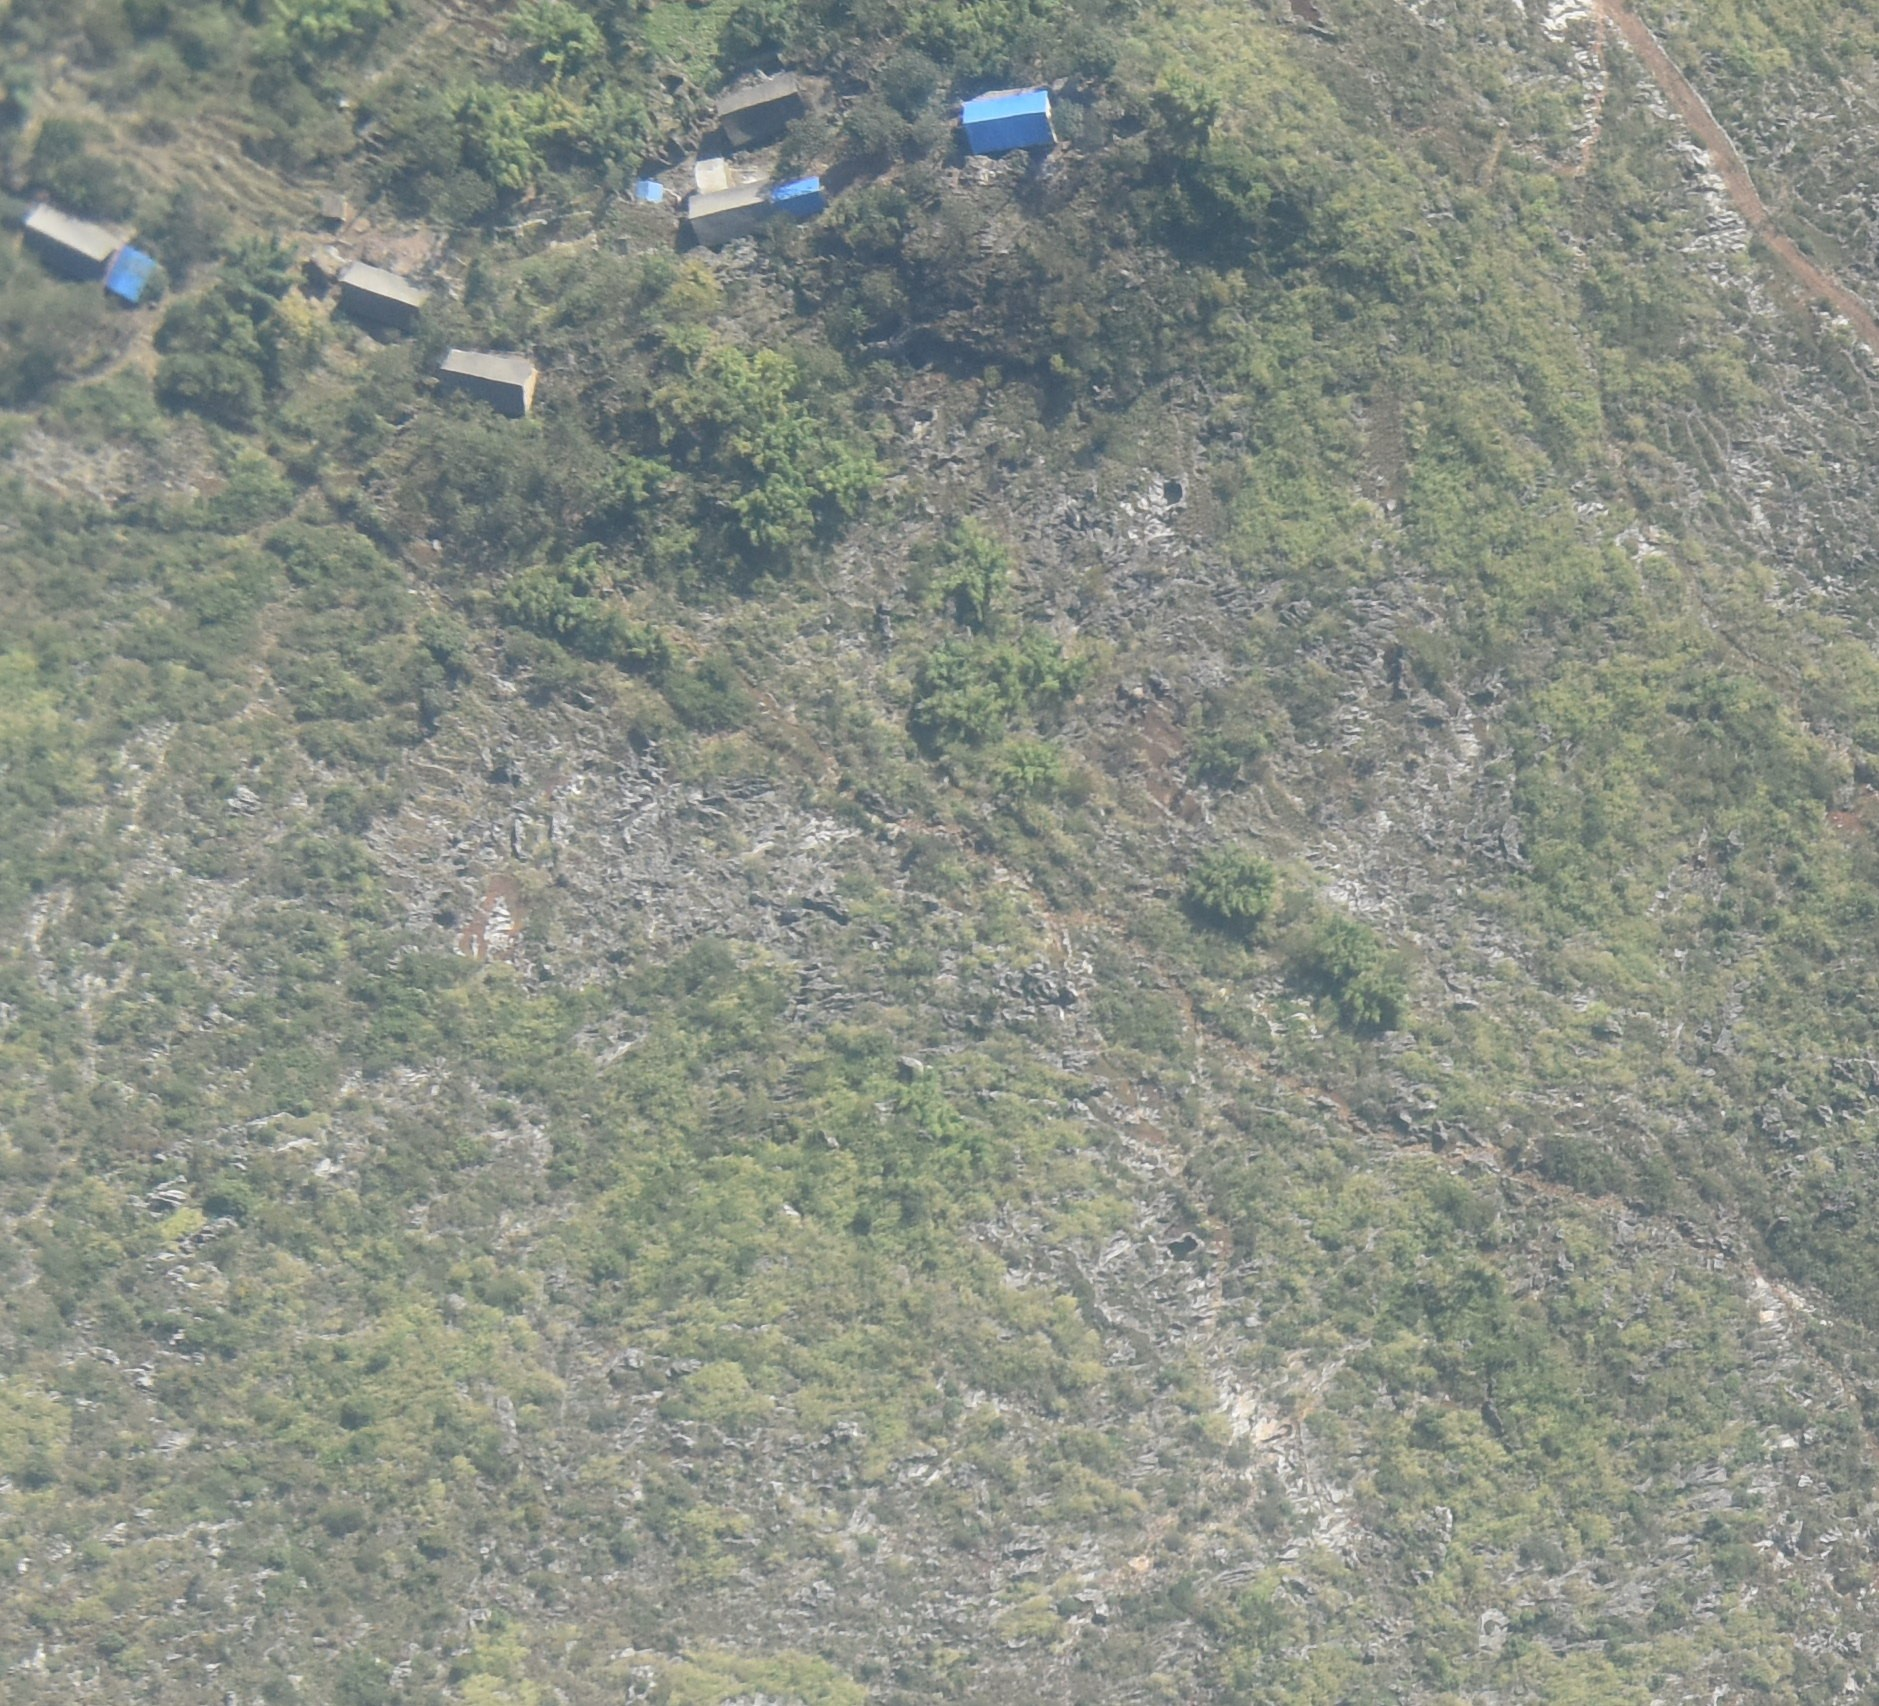building: (712, 66, 813, 143), (28, 203, 130, 269), (692, 162, 777, 241), (439, 350, 539, 415), (339, 265, 427, 321)
prefabricated-house: (961, 93, 1057, 150), (103, 249, 157, 303), (771, 174, 828, 212), (630, 180, 663, 200)
